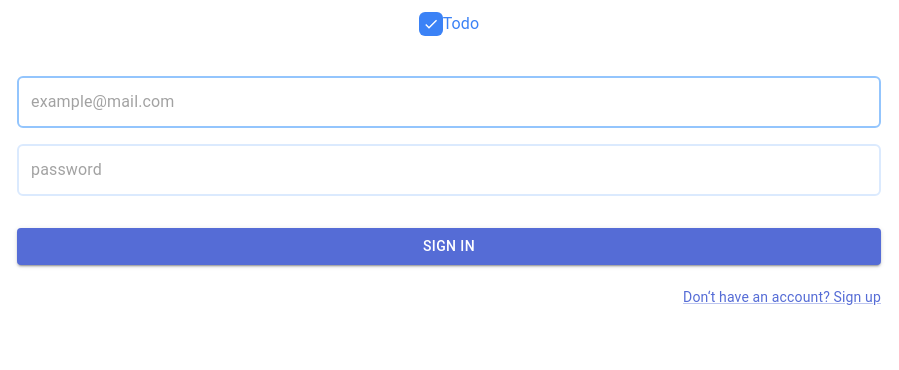
Signin form › validation of inputs › displays error when empty input
Click the button "Sign in": coordinates (449, 246) [17,228,881,264]
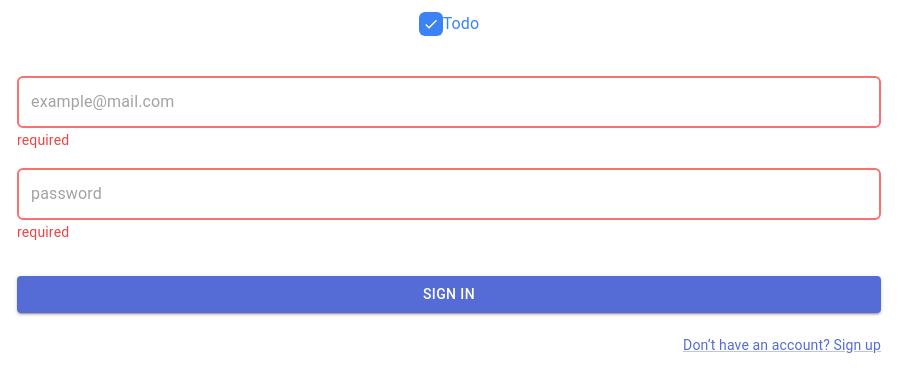
Check: the number of messages is 2, box [17,132,69,148]; [17,224,69,240]
